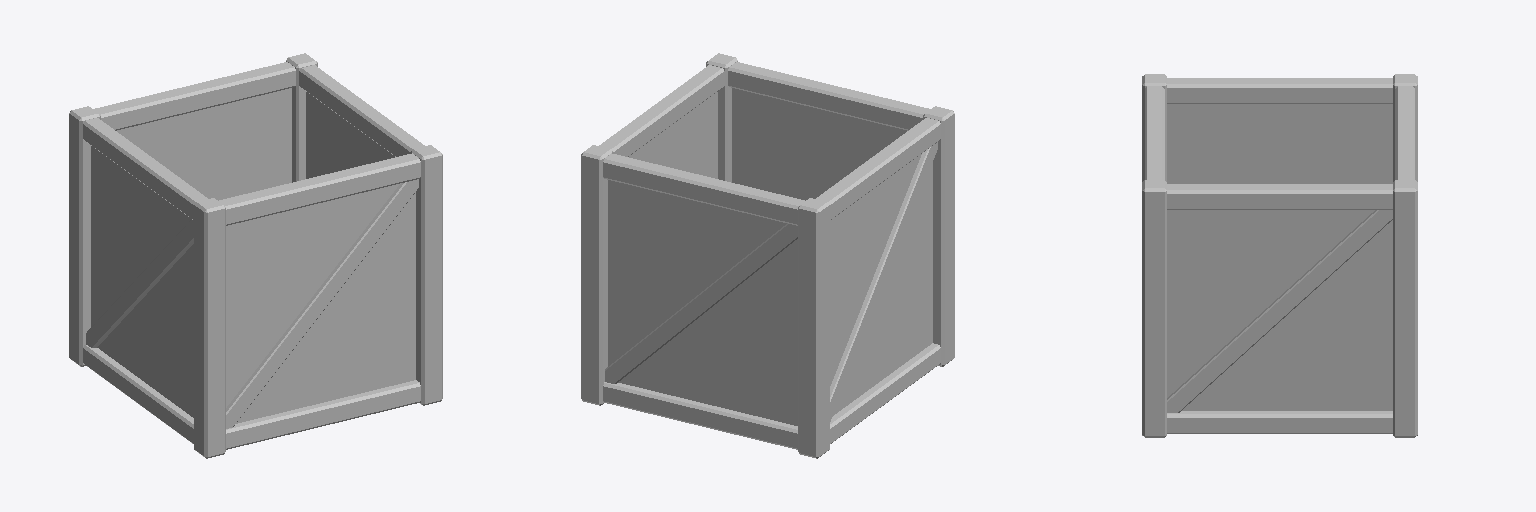
The model's file is WoodenBoxOpen02.obj.
3 renders of one model, left to right at view 1: azimuth 30°, elevation 25°; view 2: azimuth 150°, elevation 25°; view 3: azimuth 270°, elevation 25°, orthographic.
Parts seen in each view (by area): view 1: WoodenBox_Cube; view 2: WoodenBox_Cube; view 3: WoodenBox_Cube.
Boxes of the visible parts, x1,y1,x2,y2 form: WoodenBox_Cube: [69, 53, 442, 458]; WoodenBox_Cube: [581, 53, 954, 458]; WoodenBox_Cube: [1142, 74, 1417, 437].
Size of the model in its own units: 1 by 1 by 1.